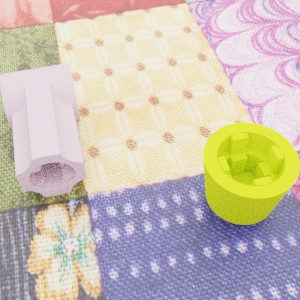lego: (0, 63, 86, 197), (203, 122, 300, 224)
